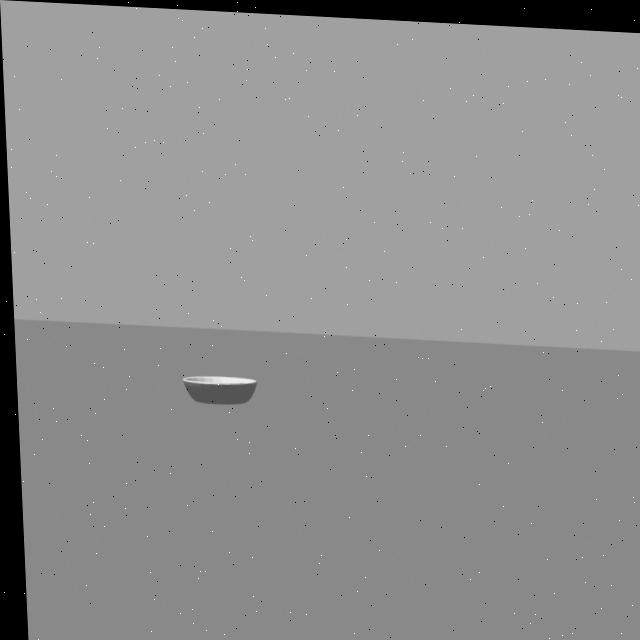bowl: (173, 348, 261, 417)
